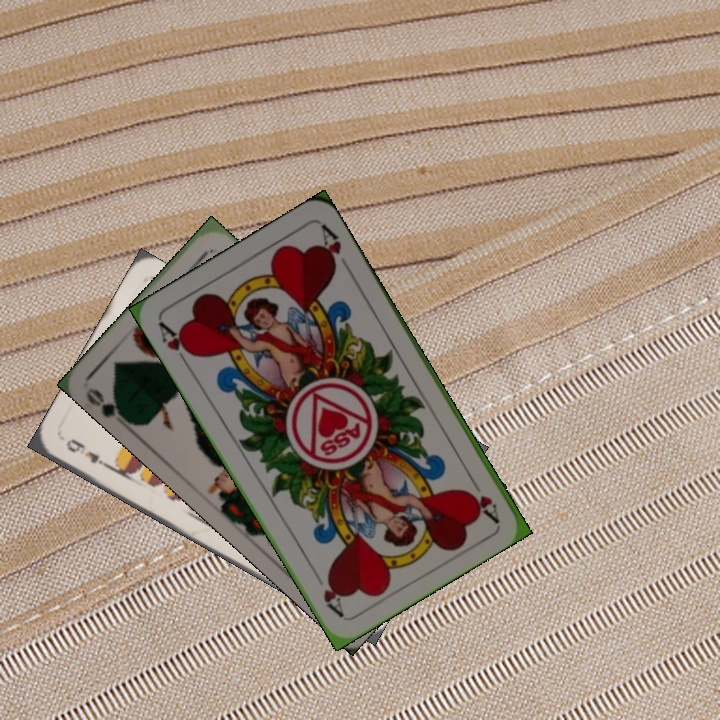E9: (62, 434, 113, 471)
GO: (82, 384, 135, 427)
HA: (154, 317, 198, 371), (464, 470, 502, 524)
